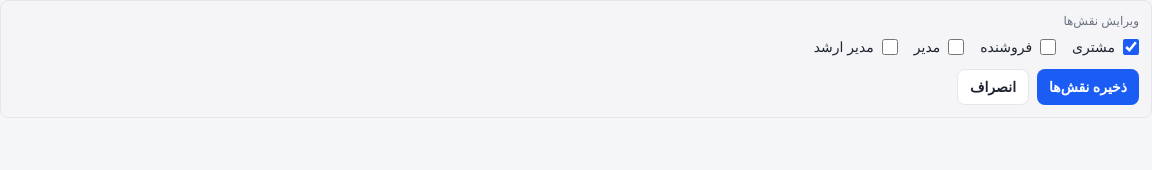
Test: UserRolesEditor › pre-selects the current roles and refuses an empty selection
This screenshot has width=1152, height=170.
Click the checkbox labelled "مشتری" at (1131, 47), box [1123,39,1139,55]
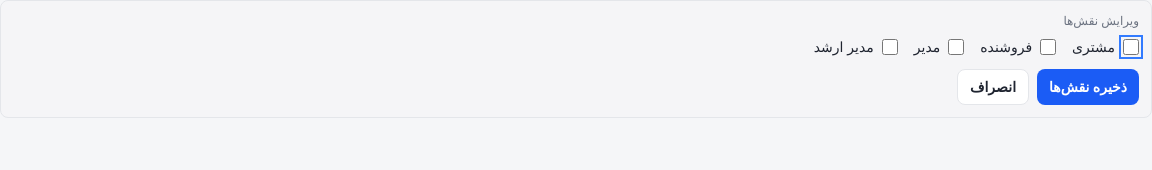
Click the button "ذخیره نقش‌ها" at (1088, 87), box [1037,69,1139,105]
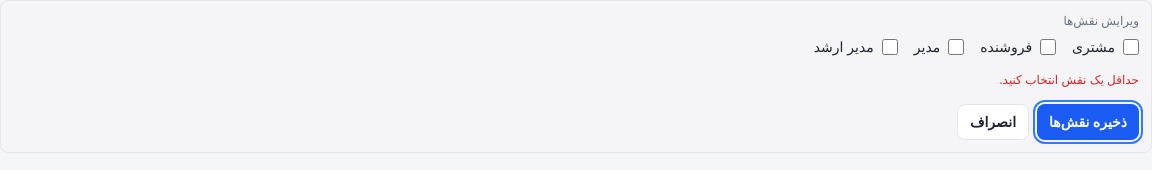
Check: the message reads "حداقل یک نقش انتخاب کنید.", box [999,72,1139,87]
